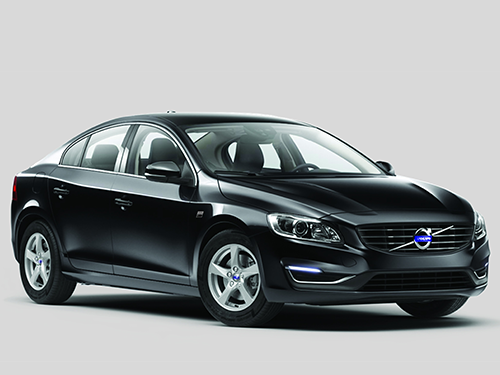sedan: (7, 110, 491, 327)
